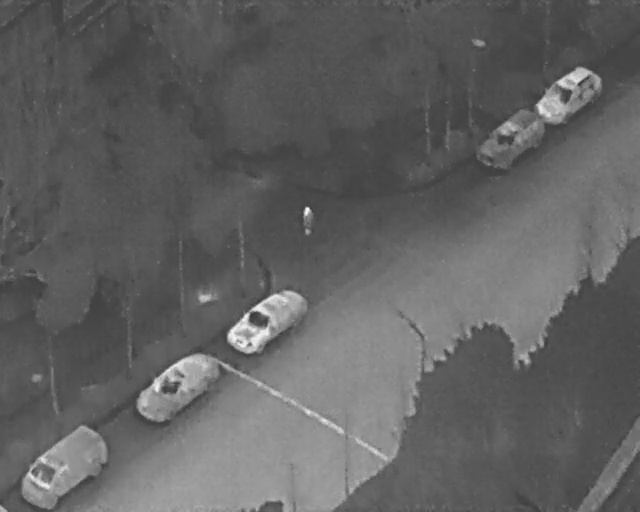Car: (130, 340, 224, 431), (20, 421, 109, 511), (223, 279, 312, 365), (469, 101, 553, 182), (531, 59, 606, 132)
Person: (302, 204, 312, 235)
